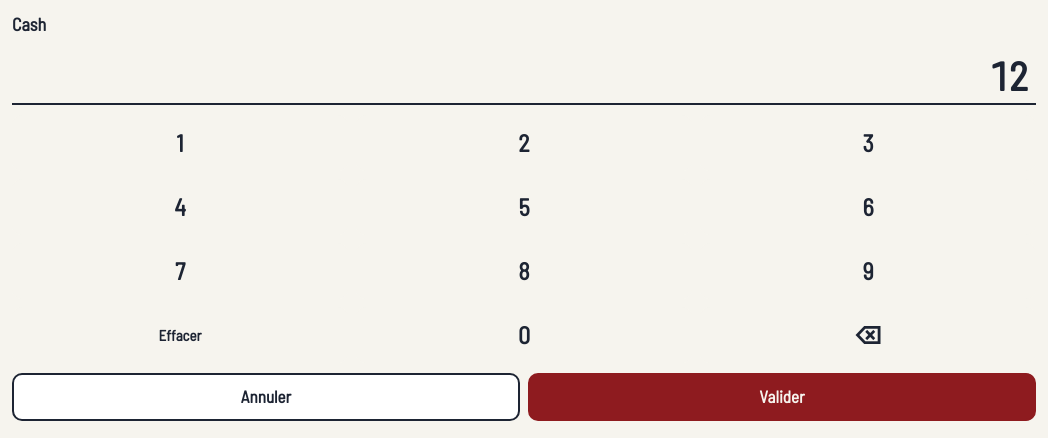
Test: NumericKeypad › saisie vide : Valider désactivé
The width and height of the screenshot is (1048, 438).
Click the button "Effacer" at (180, 335), box [12, 307, 348, 363]
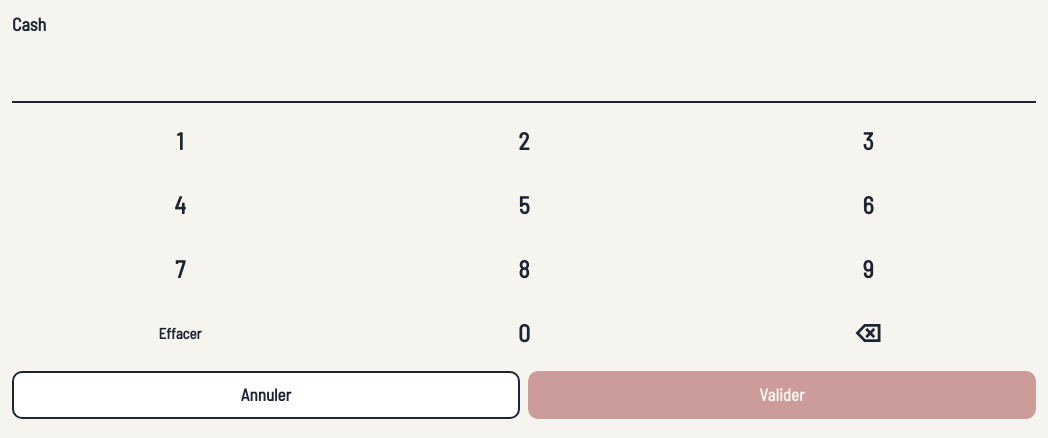
Expected: the button "Valider" is disabled, [528, 371, 1036, 419]
